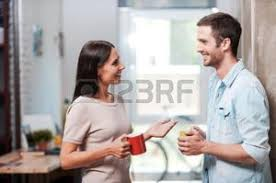person: (181, 15, 273, 132), (58, 37, 140, 139)
